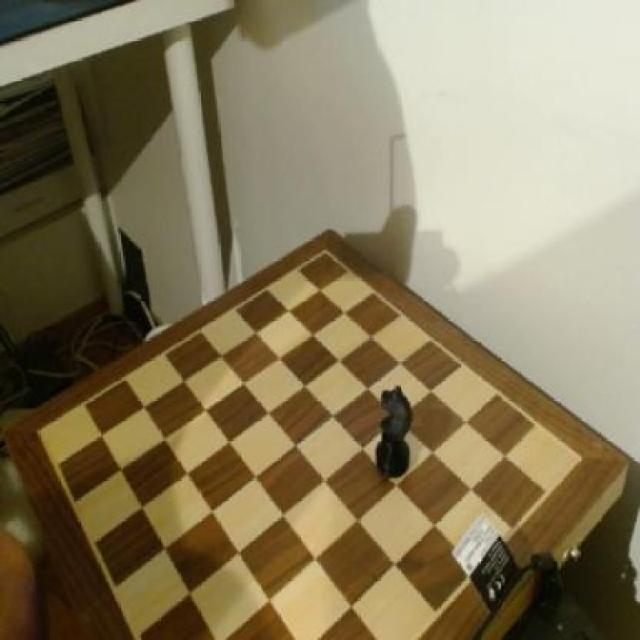black-king: (372, 382, 415, 482)
